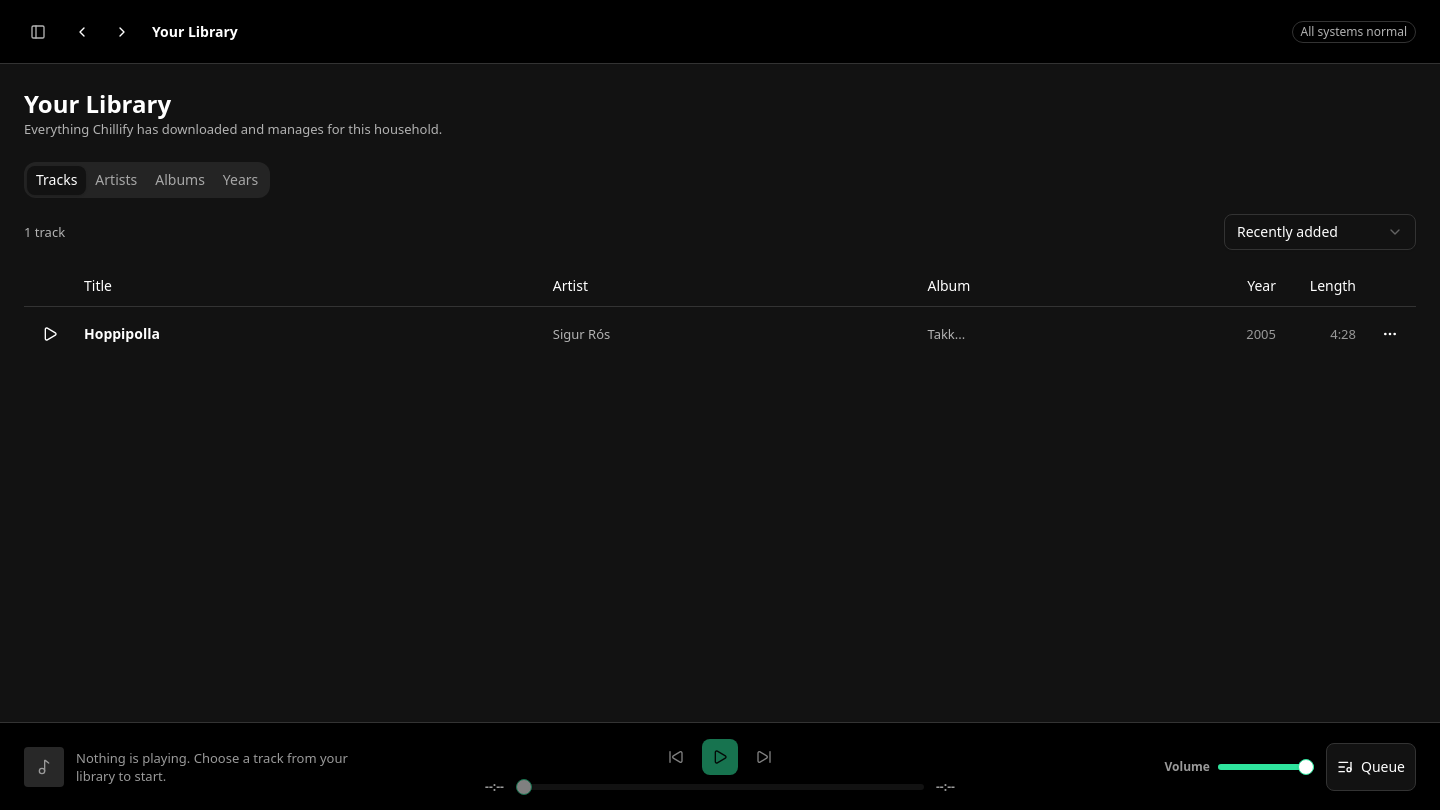
Test: persistent playback › pauses and resumes without changing the loaded track
Step 1. Click the button named "Play Hoppipolla" → (50, 334), box [32, 316, 68, 352]
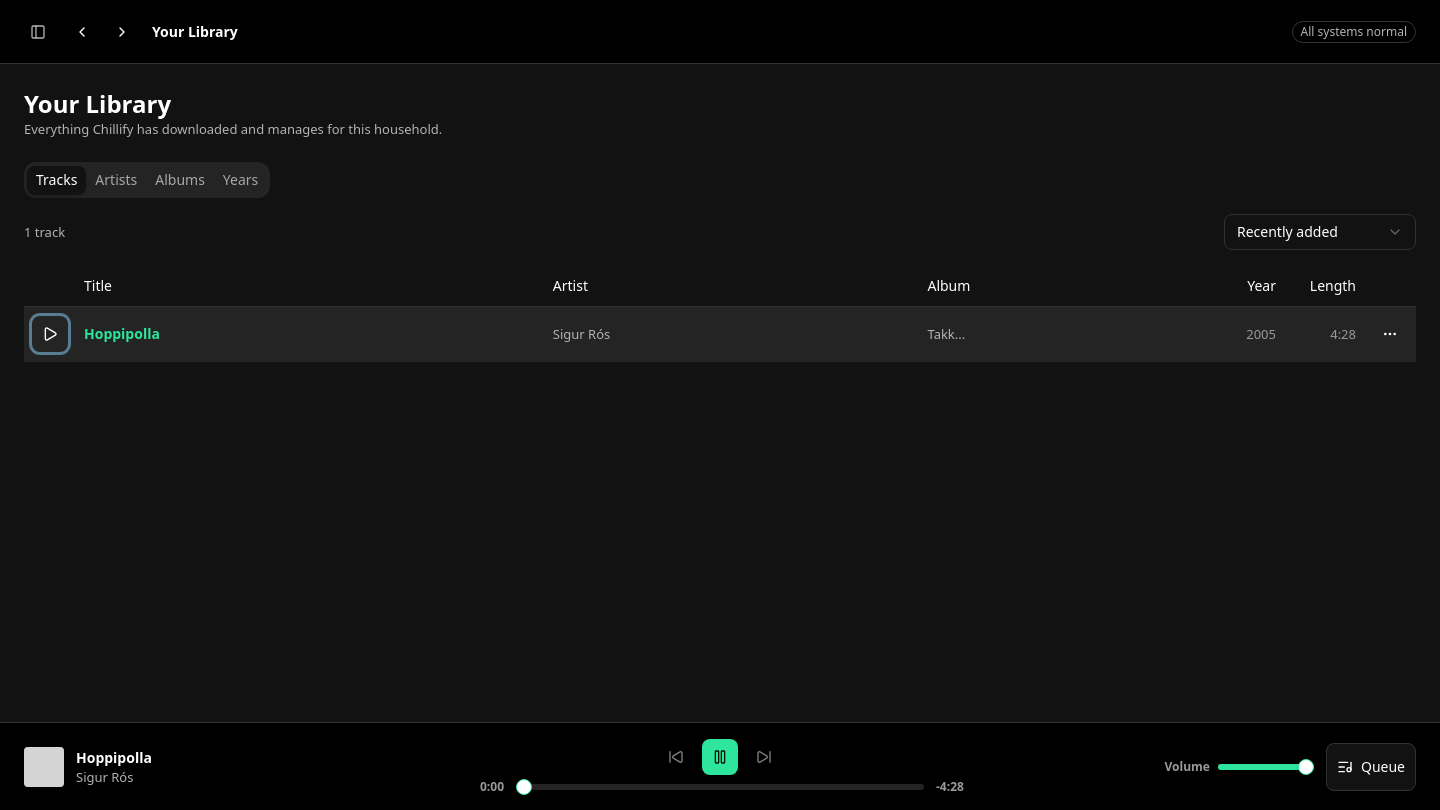
Step 2. Click the button named "Pause" → (720, 756), box [702, 738, 738, 774]
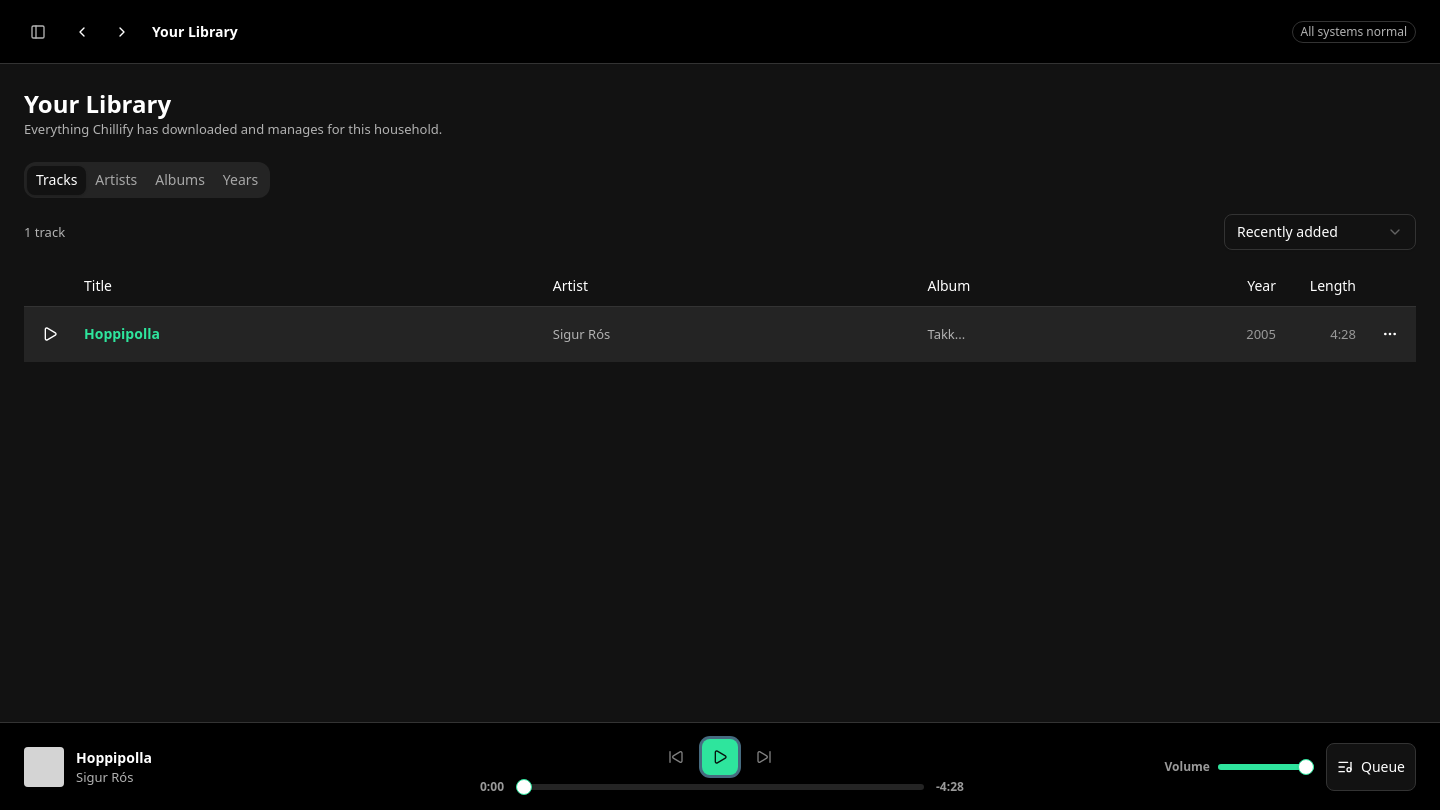
Expected: the button named "Play" is shown, [702, 738, 738, 774]
